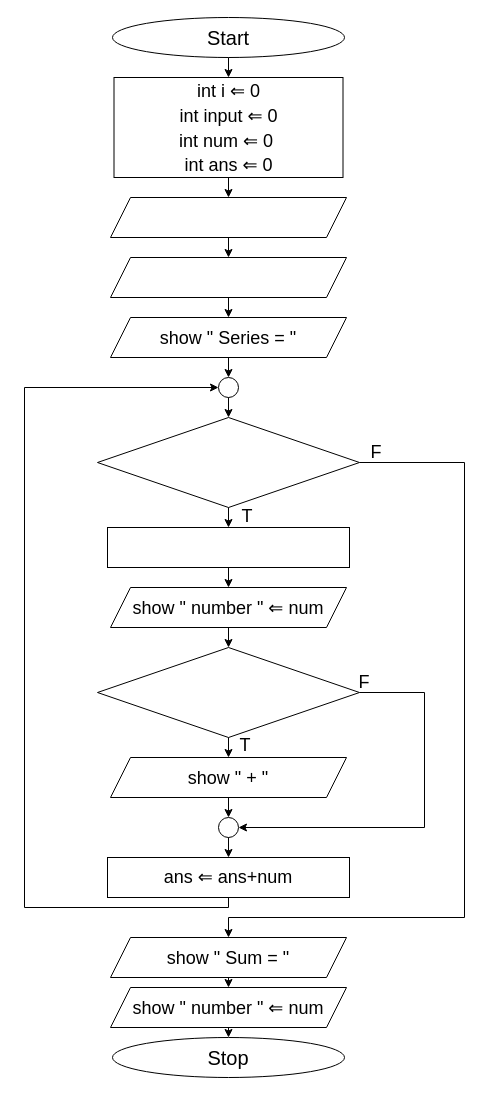
The diagram is 490 pixels wide and 1095 high, and some of its shapes have lost their labels. The centre of each missing label's shape, as x and y in pixels:
i <= input ?: (x=228, y=462)
i ≠ input ?: (x=228, y=692)
input number ⇒ input: (x=228, y=277)
num ⇐ num*10+9: (x=228, y=547)
show " User Input : ": (x=228, y=217)
